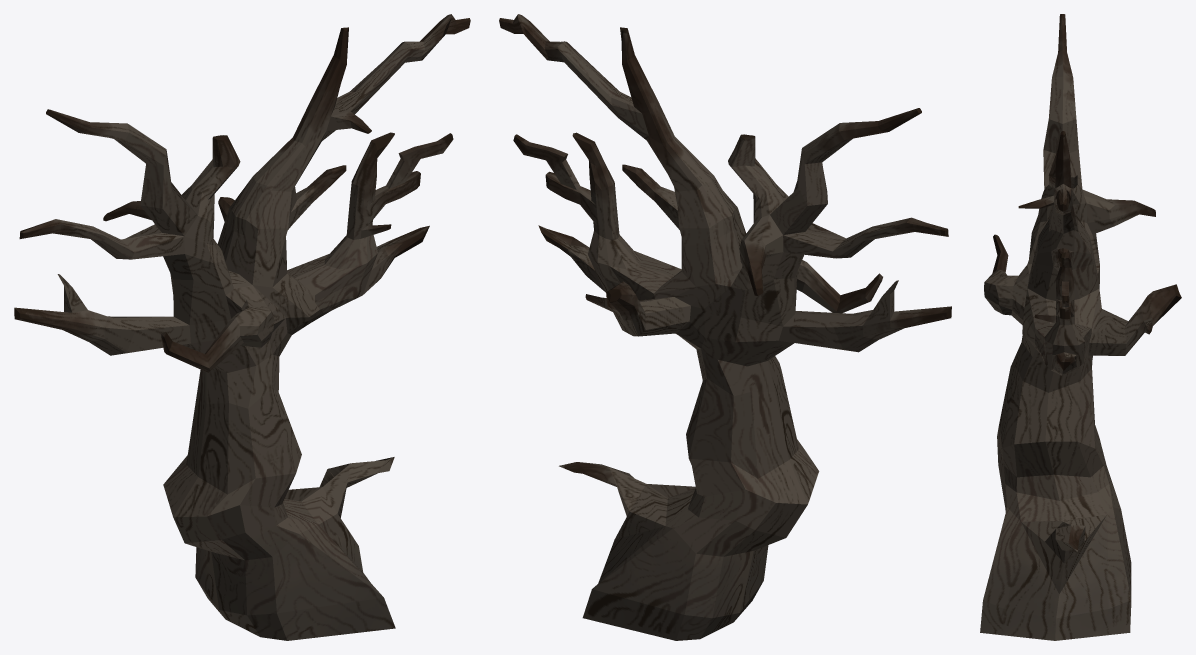
Rendered from DeadTreeModel.fbx.
3 renders of one model, left to right at view 1: azimuth 30°, elevation 25°; view 2: azimuth 150°, elevation 25°; view 3: azimuth 270°, elevation 25°, orthographic. The views are drawn at different scales.
Parts seen in each view (by area): view 1: DeadTreeModel; view 2: DeadTreeModel; view 3: DeadTreeModel.
Boxes of the visible parts, x1,y1,x2,y2 form: DeadTreeModel: (14,14,470,640); DeadTreeModel: (499,14,951,640); DeadTreeModel: (980,14,1181,640).
Size of the model in its own units: 757 by 902 by 331.
Materials: 1 (1 with a texture image).
